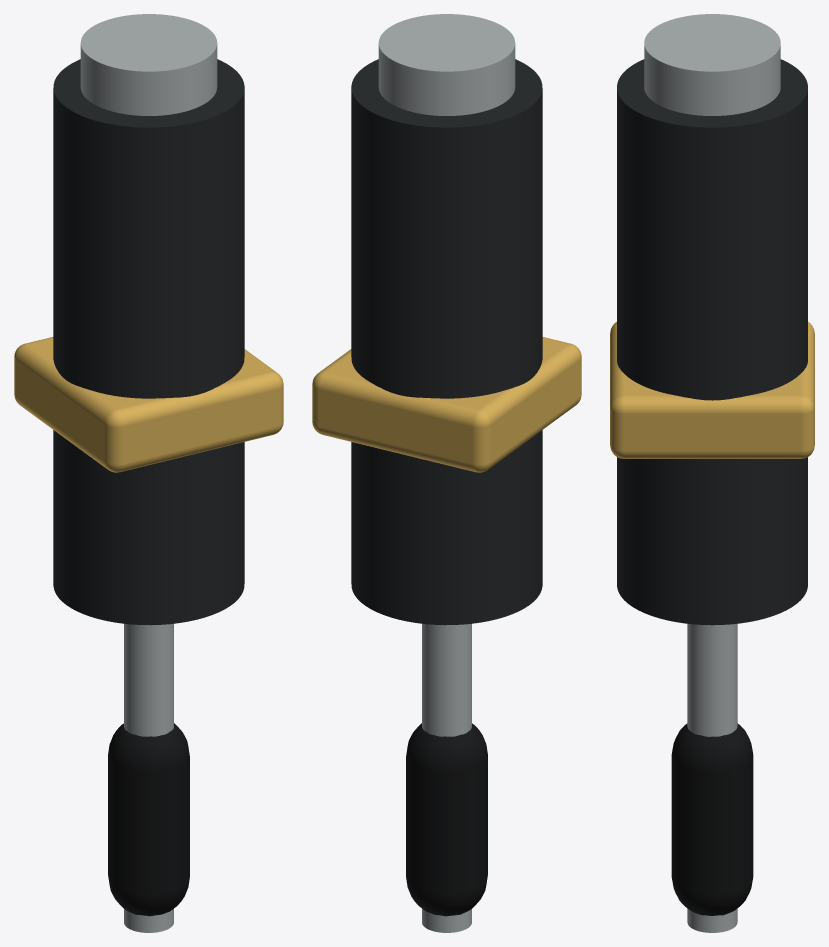
3 renders of one model, left to right at view 1: azimuth 30°, elevation 25°; view 2: azimuth 150°, elevation 25°; view 3: azimuth 270°, elevation 25°, orthographic.
Visible parts, largest first — view 1: folded-canopy, silicone-band, handle, canopy-cap, shaft; view 2: folded-canopy, silicone-band, handle, canopy-cap, shaft; view 3: folded-canopy, silicone-band, handle, canopy-cap, shaft.
Part boxes in pixels (<box>): folded-canopy: <box>53,59,244,625</box>; silicone-band: <box>14,337,283,472</box>; handle: <box>108,723,189,916</box>; canopy-cap: <box>80,14,217,115</box>; shaft: <box>124,623,173,932</box>; folded-canopy: <box>351,59,542,625</box>; silicone-band: <box>312,337,581,472</box>; handle: <box>406,723,487,916</box>; canopy-cap: <box>378,14,515,115</box>; shaft: <box>422,623,471,932</box>; folded-canopy: <box>617,59,807,625</box>; silicone-band: <box>610,322,814,458</box>; handle: <box>671,723,753,915</box>; canopy-cap: <box>644,14,780,115</box>; shaft: <box>687,623,737,932</box>.
Size of the model in its own units: 0.0585 by 0.2772 by 0.0585.
